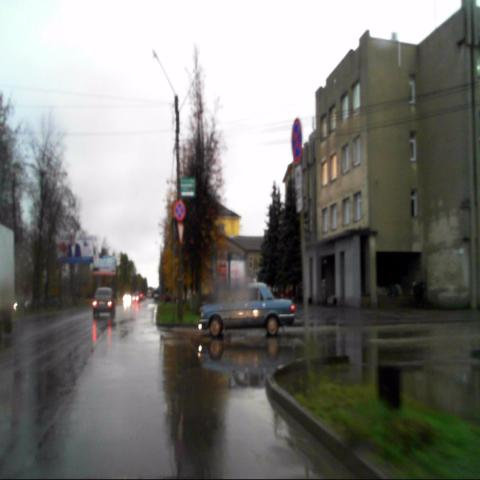8_2_2: (295, 164, 303, 212)
